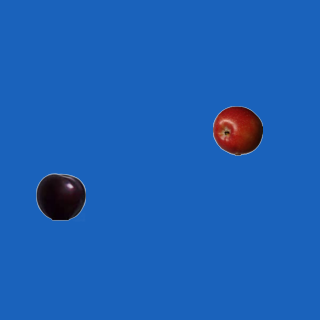Apple Braeburn: (212, 105, 262, 155)
Cherry Wax Black: (35, 171, 85, 221)
